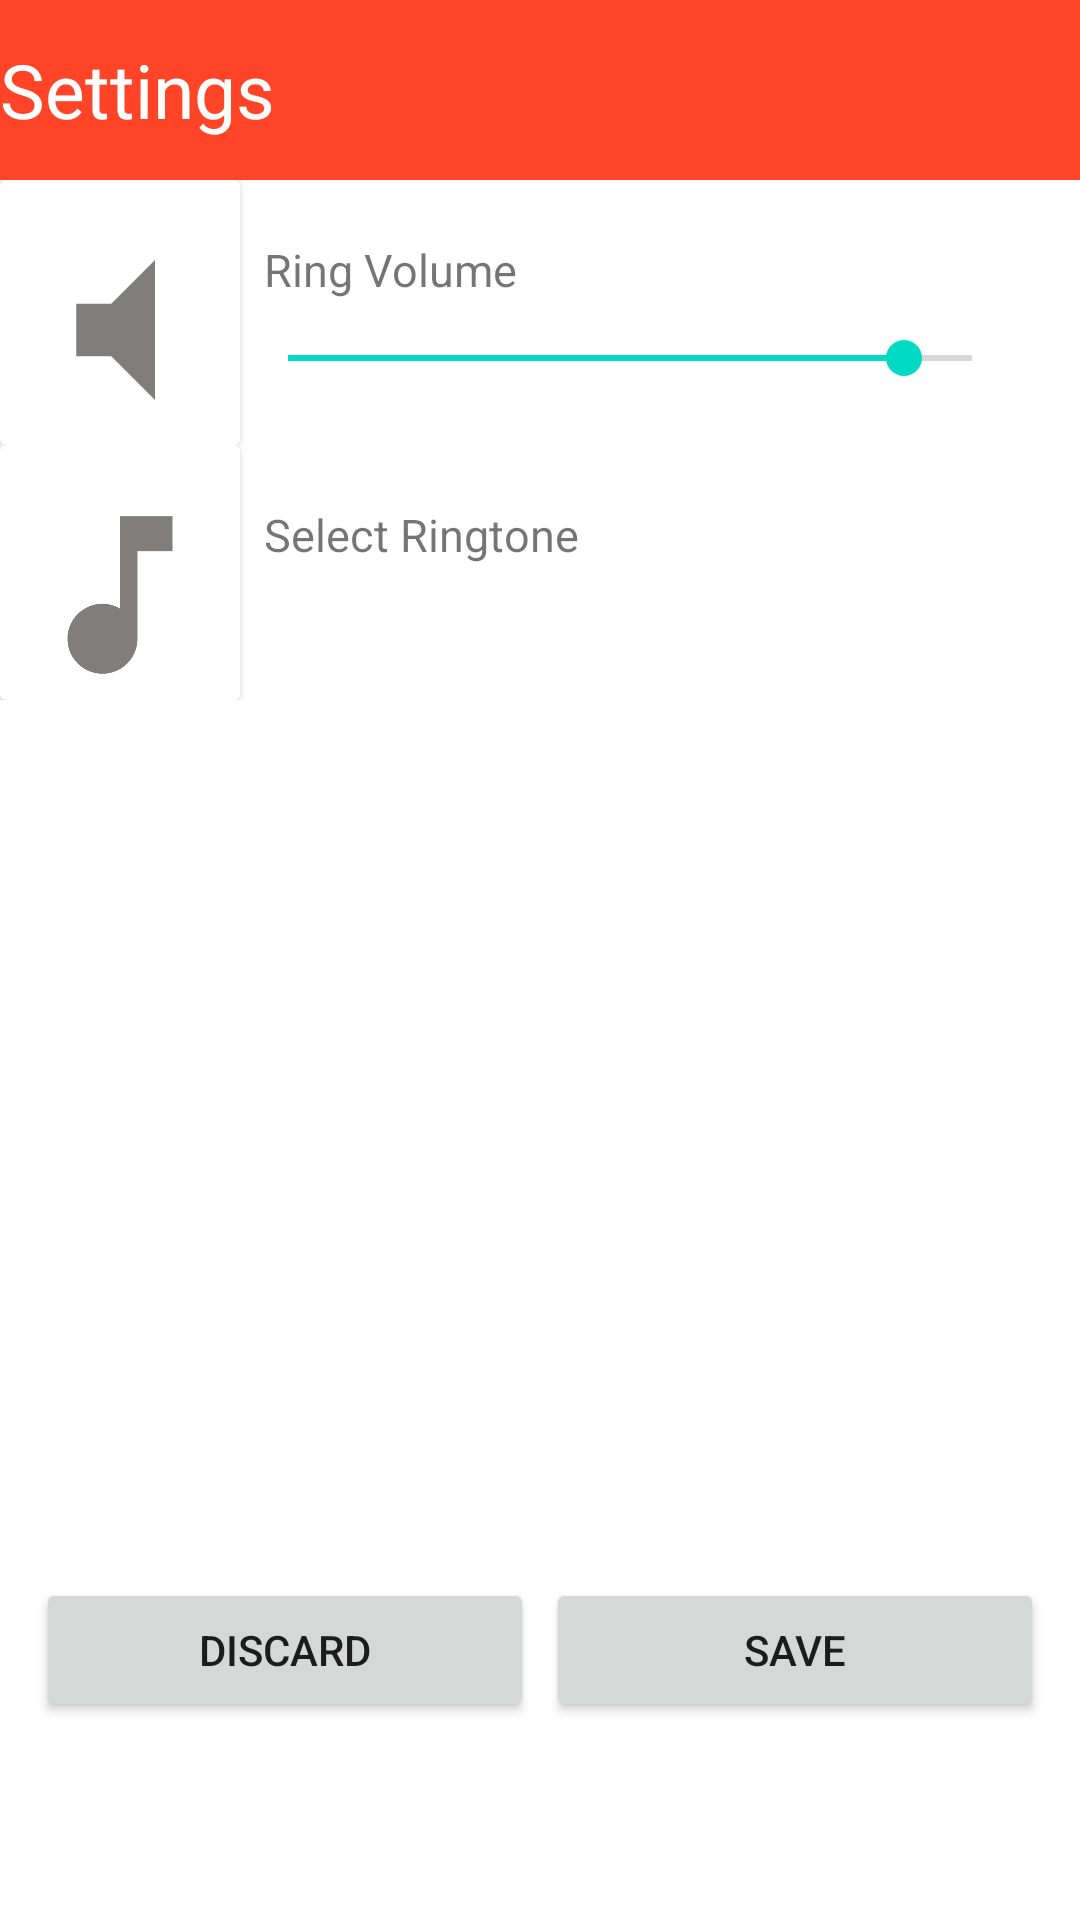

Icon click points for this 1080×1920 phone screenshot, format [x,y]:
music note: [86,608]
volume mute: [115,330]
